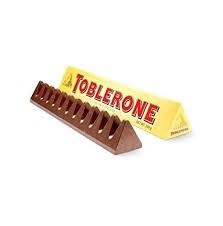Chocolate: (22, 52, 203, 174)
